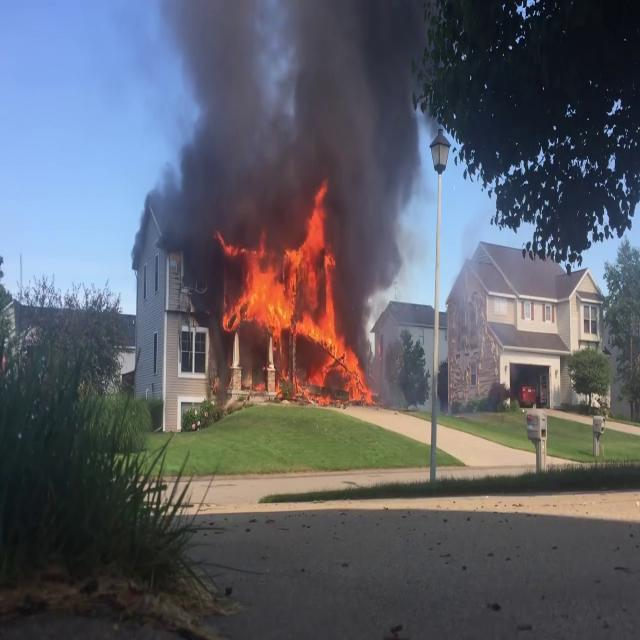Fire: (217, 179, 378, 407)
Smoke: (158, 0, 447, 373)
